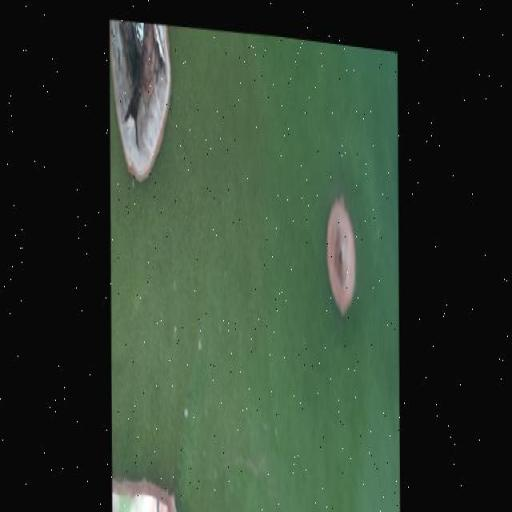stemcanker: (36, 364, 92, 406)
